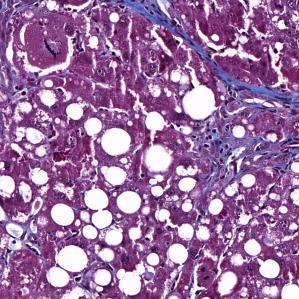fibrosis: (210, 79, 299, 137), (129, 2, 201, 36)
